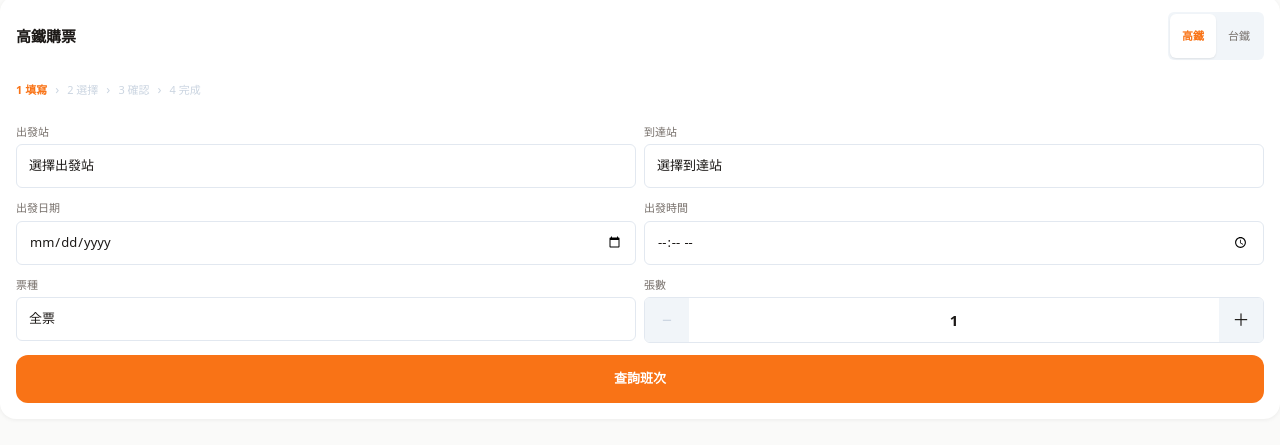
Test case: TicketBooking › 出發站與到達站相同時顯示驗證錯誤
Select "台北" in the 2nd dropdown with class "field-select": [954, 166] box [644, 144, 1264, 188]
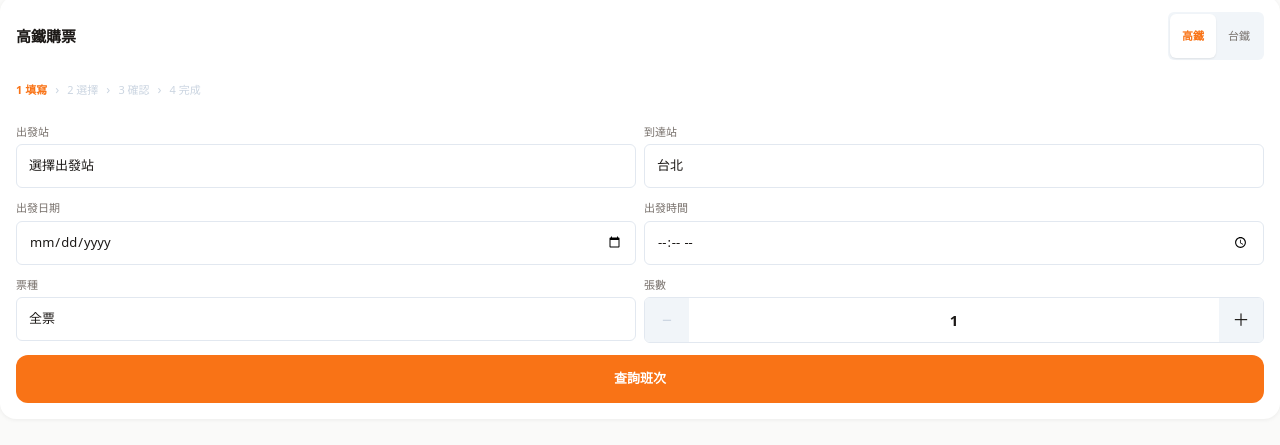
Select "台北" in the 1st dropdown with class "field-select": [326, 166] box [16, 144, 636, 188]
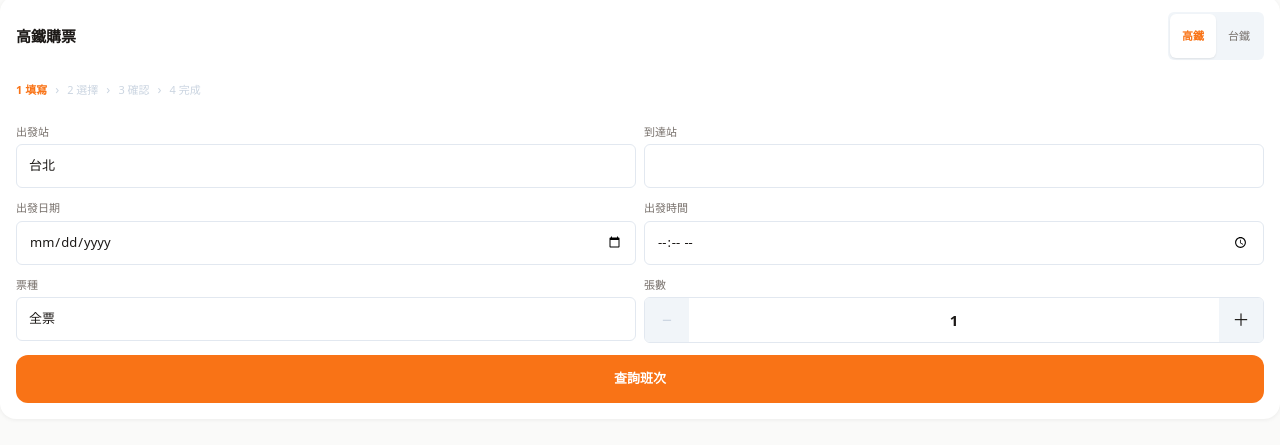
In the date field named "出發日期": [326, 242] box [16, 220, 636, 264], type "2026-08-01"
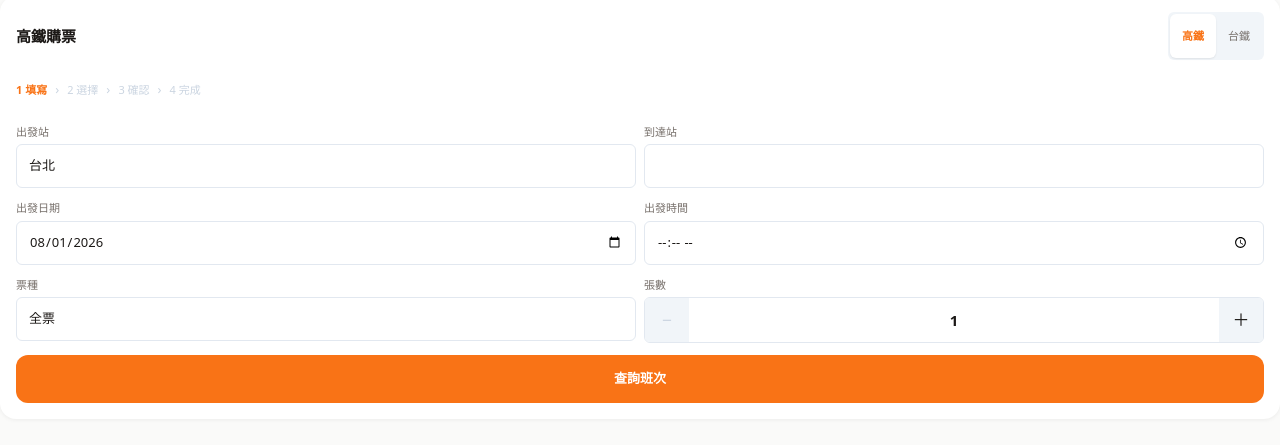
Click the button "查詢班次": [640, 379] box [16, 355, 1264, 403]
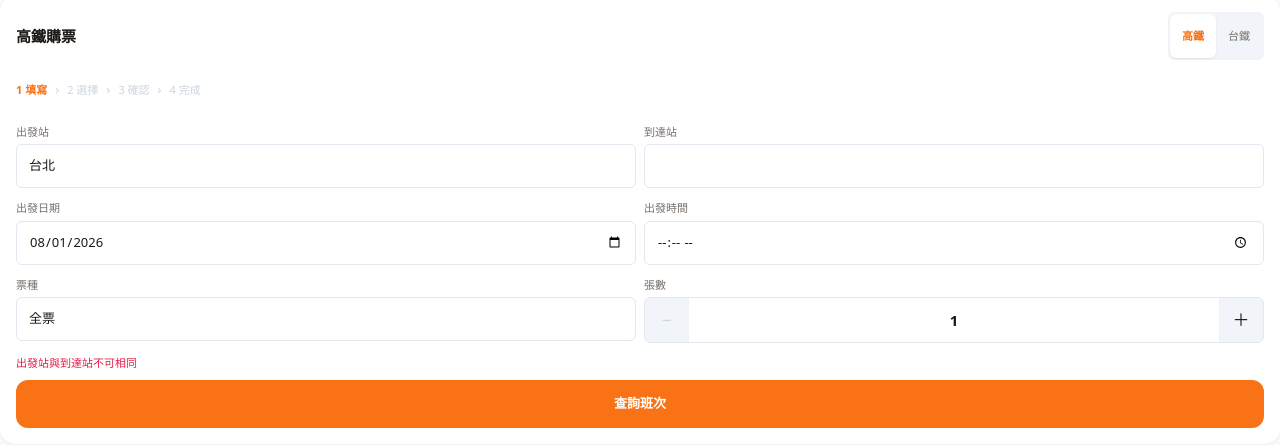
Now the message with class "form-error" shows "不可相同", box [16, 355, 137, 370]
